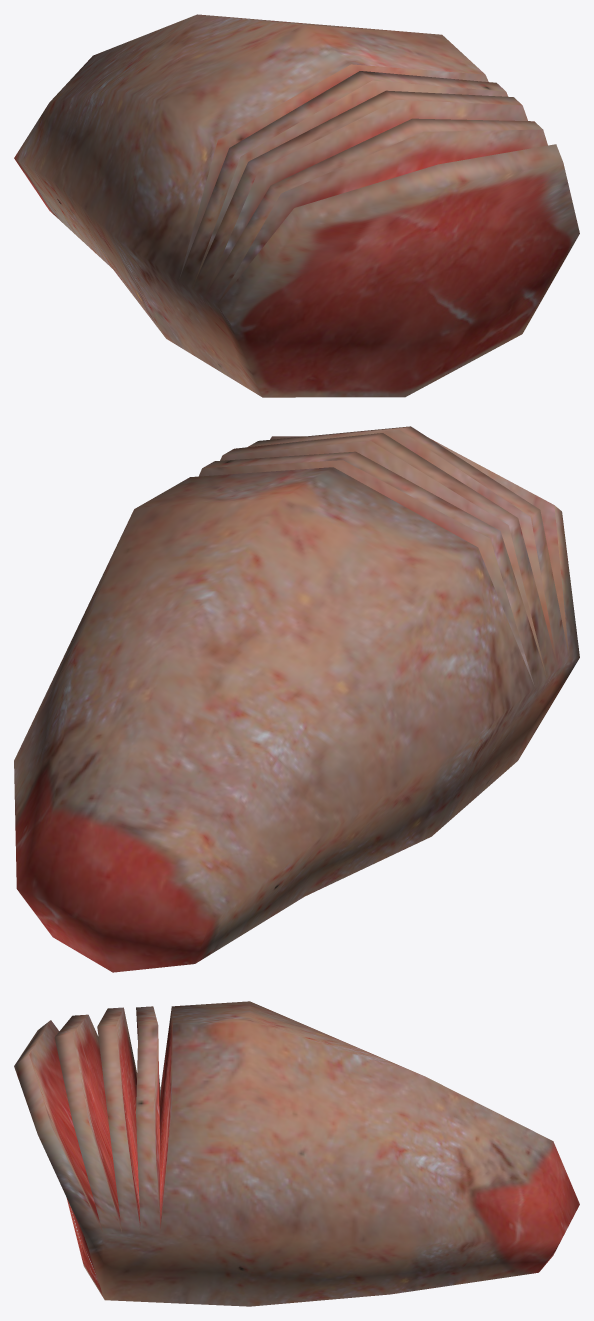
The model's file is Ham_sliced.fbx.
The picture shows the model from 3 angles, top to bottom: view 1: azimuth 30°, elevation 25°; view 2: azimuth 150°, elevation 25°; view 3: azimuth 270°, elevation 25°; orthographic projection. The views are drawn at different scales.
Visible parts, largest first — view 1: Ham_sliced; view 2: Ham_sliced; view 3: Ham_sliced.
Boxes of the visible parts, bbox=[...] form: Ham_sliced: bbox=[14, 14, 579, 397]; Ham_sliced: bbox=[14, 426, 579, 972]; Ham_sliced: bbox=[14, 1001, 579, 1306].
Bounding box in the file's own units: 0.4567 × 0.3575 × 0.7396.
